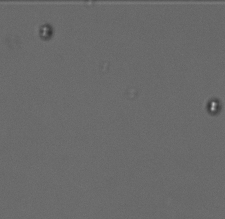Dead Cell: (39, 23, 53, 40)
Living Cell: (207, 97, 220, 114)
